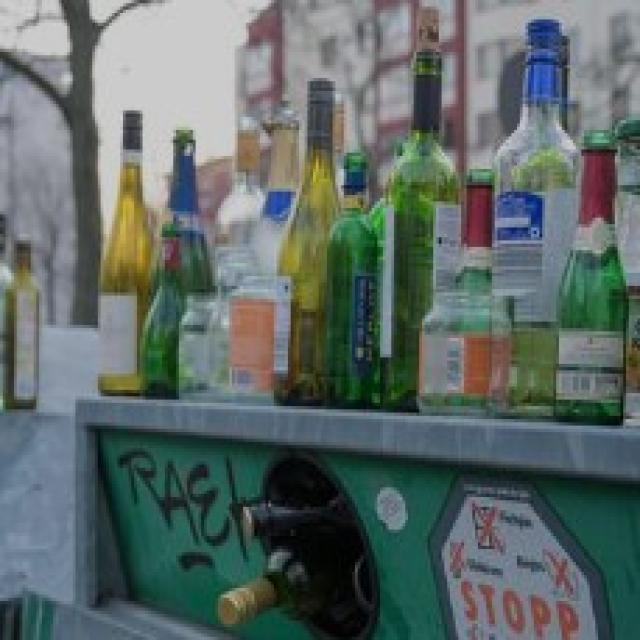electronic: (92, 2, 640, 426), (0, 208, 42, 419)
